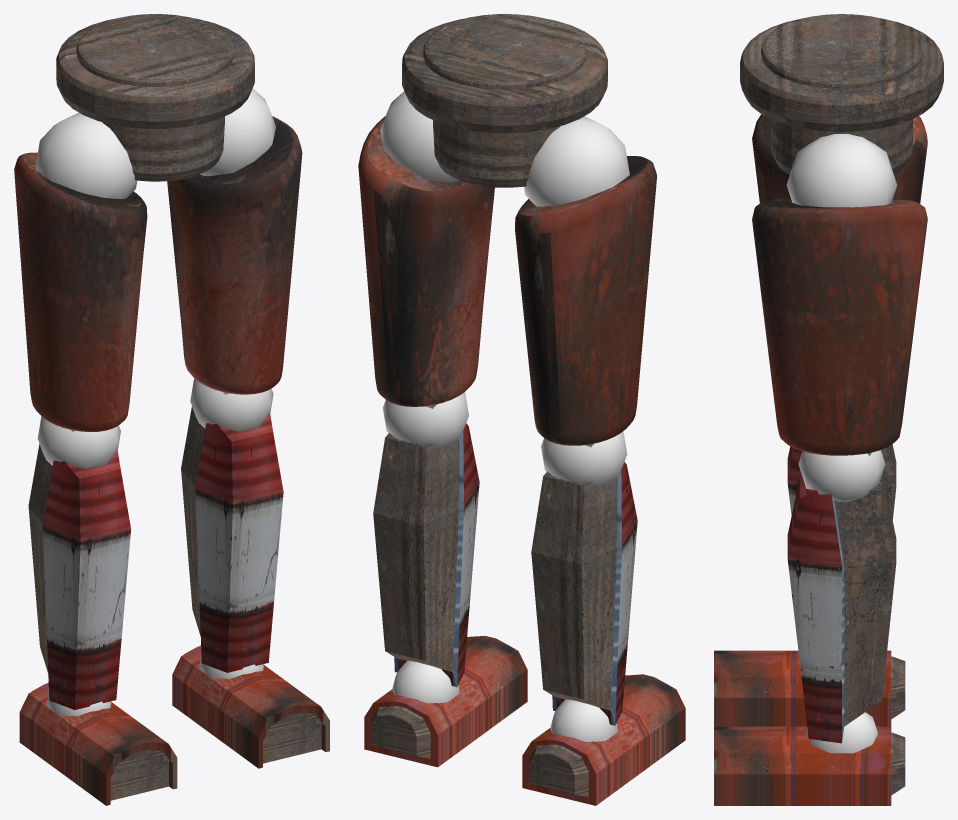
File: Robot 1 Legs.fbx
The picture shows the model from 3 angles, left to right: view 1: azimuth 30°, elevation 25°; view 2: azimuth 150°, elevation 25°; view 3: azimuth 270°, elevation 25°; orthographic projection. The views are drawn at different scales.
Parts seen in each view (by area): view 1: Cylinder.006, Cylinder.007, Cylinder.004, Cube.008, Cube.007, Cube.015, Cube.009, Icosphere, Icosphere.001, Icosphere.002, Icosphere.003; view 2: Cylinder.006, Cylinder.007, Cylinder.004, Cube.008, Cube.007, Cube.015, Cube.009, Icosphere, Icosphere.001, Icosphere.002, Icosphere.003, Icosphere.007 (+1 smaller); view 3: Cylinder.007, Cylinder.004, Cube.008, Cube.009, Cube.015, Icosphere.001, Cylinder.006, Icosphere.002, Icosphere.007, Cube.007.
Part boxes in pixels (bbox=[...]): Cylinder.006: bbox=[14, 152, 147, 431]; Cylinder.007: bbox=[167, 116, 302, 394]; Cylinder.004: bbox=[56, 14, 254, 181]; Cube.008: bbox=[181, 407, 283, 672]; Cube.007: bbox=[28, 444, 130, 709]; Cube.015: bbox=[19, 682, 177, 805]; Cube.009: bbox=[172, 645, 329, 768]; Icosphere: bbox=[35, 112, 137, 199]; Icosphere.001: bbox=[200, 88, 275, 176]; Icosphere.002: bbox=[190, 378, 273, 431]; Icosphere.003: bbox=[37, 416, 120, 468]; Cylinder.006: bbox=[515, 156, 656, 445]; Cylinder.007: bbox=[358, 116, 494, 406]; Cylinder.004: bbox=[402, 14, 607, 187]; Cube.008: bbox=[373, 423, 479, 686]; Cube.007: bbox=[531, 462, 637, 725]; Cube.015: bbox=[522, 674, 685, 805]; Cube.009: bbox=[364, 636, 527, 767]; Icosphere: bbox=[524, 116, 629, 206]; Icosphere.001: bbox=[380, 91, 458, 182]; Icosphere.002: bbox=[382, 392, 468, 448]; Icosphere.003: bbox=[541, 431, 627, 486]; Icosphere.007: bbox=[392, 660, 459, 703]; Cylinder.007: bbox=[752, 198, 927, 455]; Cylinder.004: bbox=[740, 14, 943, 174]; Cube.008: bbox=[787, 474, 896, 743]; Cube.009: bbox=[714, 726, 905, 805]; Cube.015: bbox=[714, 650, 905, 726]; Icosphere.001: bbox=[786, 134, 897, 207]; Cylinder.006: bbox=[752, 114, 927, 203]; Icosphere.002: bbox=[798, 450, 885, 502]; Icosphere.007: bbox=[806, 712, 877, 753]; Cube.007: bbox=[787, 444, 896, 520].
Bounding box in the file's own units: 290 × 751 × 222.
